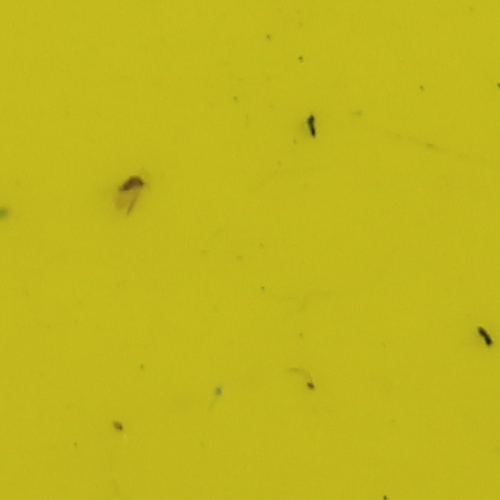psylla: (120, 174, 148, 194)
